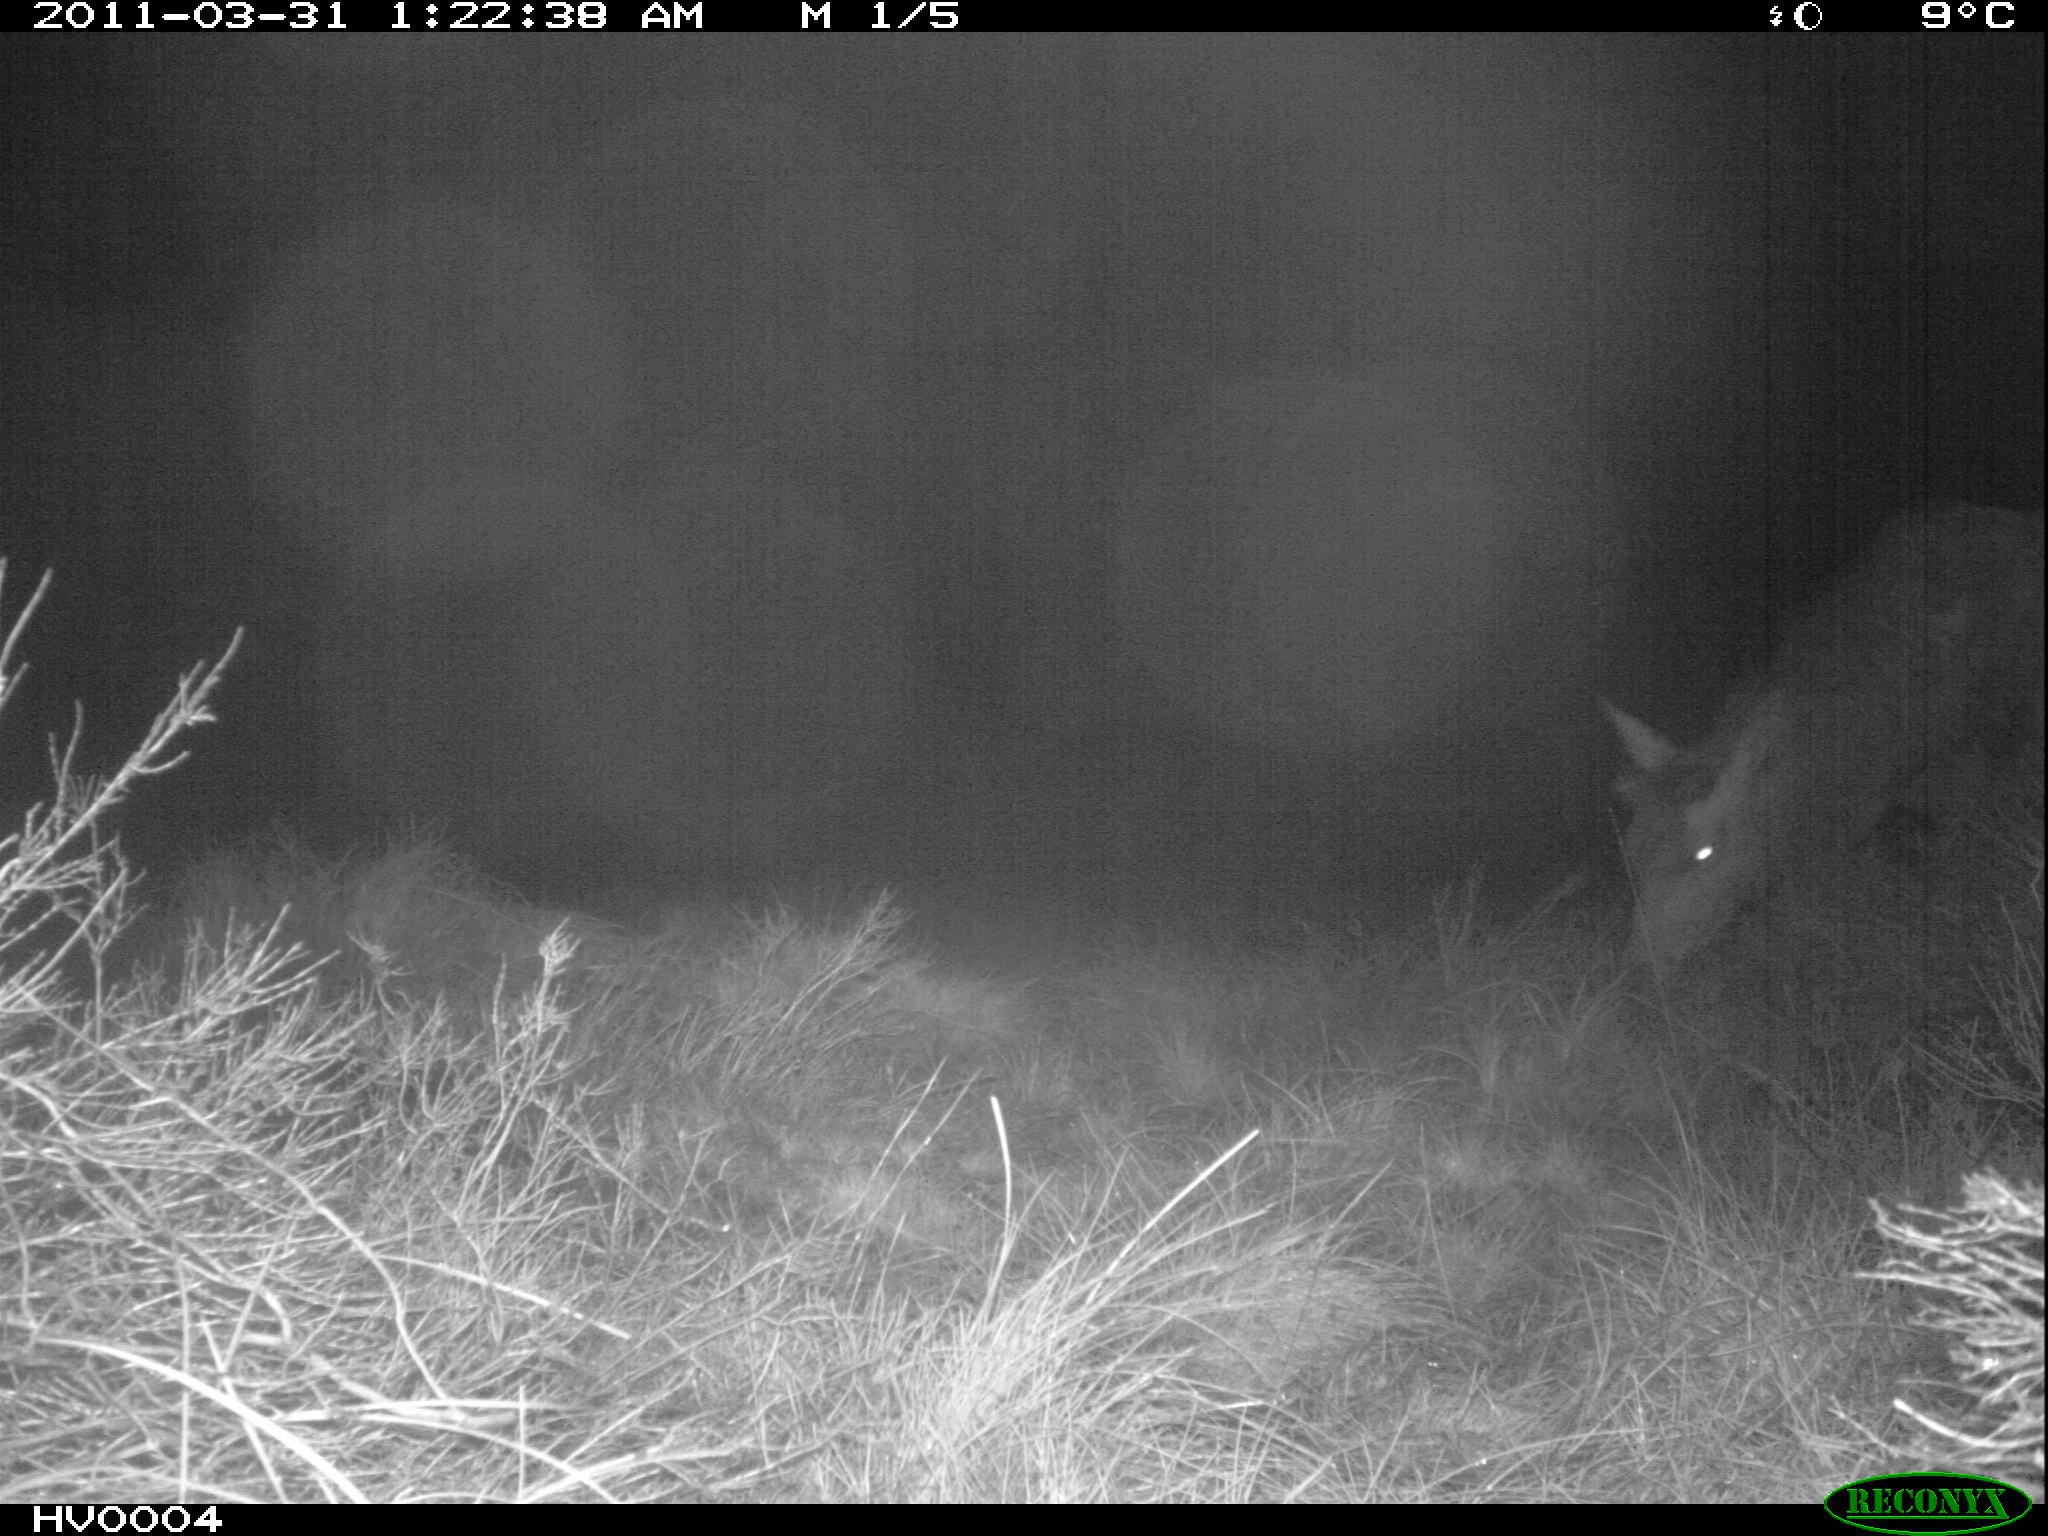Deer: (1617, 470, 2045, 1021)
